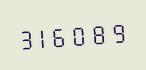eight: (90, 18, 107, 47)
nine: (108, 17, 125, 46)
one: (35, 22, 52, 51)
six: (54, 21, 71, 50)
three: (17, 23, 34, 52)
zero: (72, 20, 89, 48)
